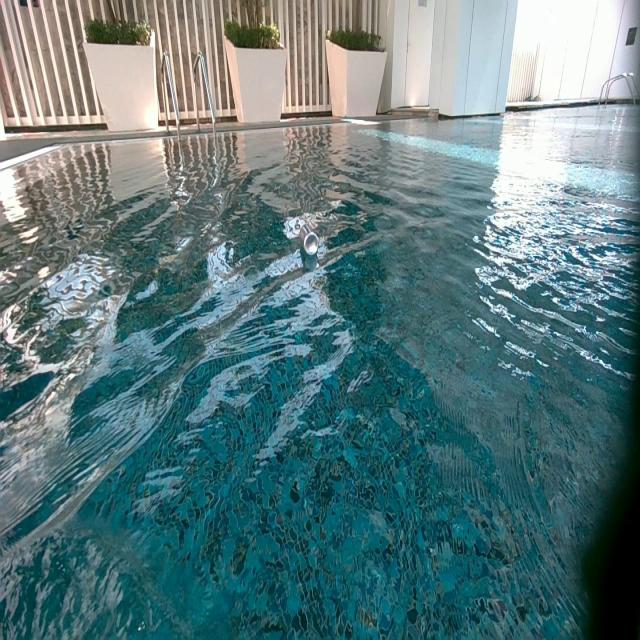Cans: (301, 222, 318, 259)
